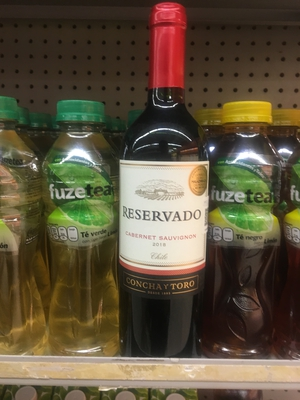reservado cabernet sauvignon: (110, 14, 210, 359)
